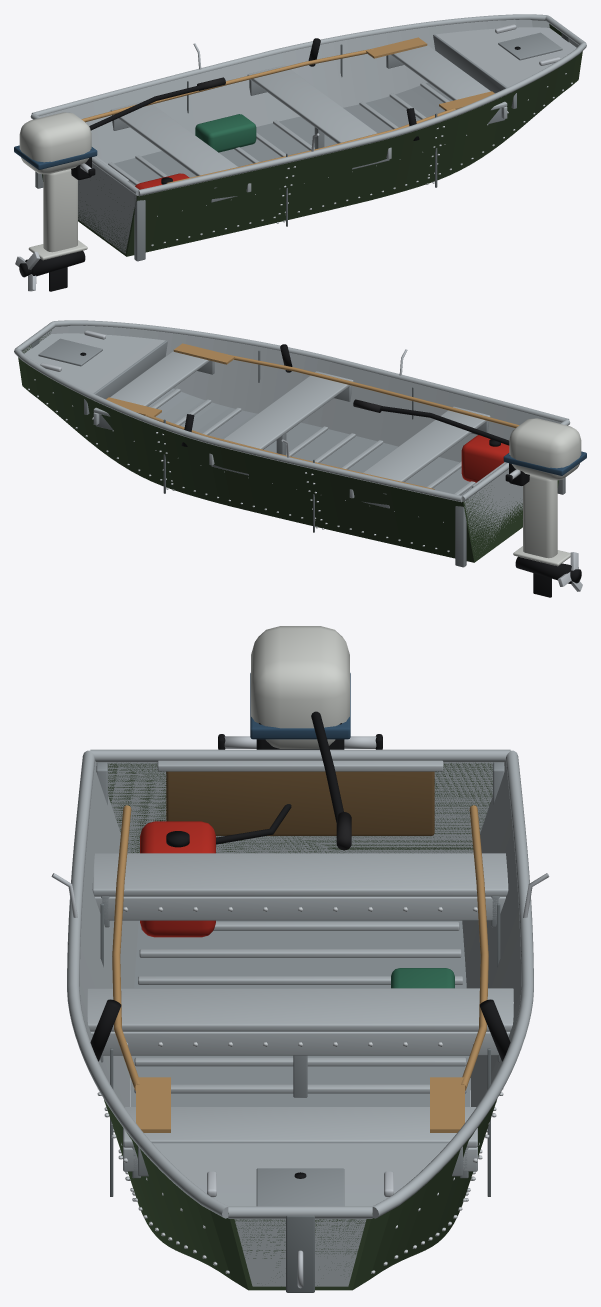
File: jon.glb
The picture shows the model from 3 angles, top to bottom: view 1: azimuth 30°, elevation 25°; view 2: azimuth 150°, elevation 25°; view 3: azimuth 270°, elevation 25°; orthographic projection. The views are drawn at different scales.
Visible parts, largest first — view 1: hull_out, hull_in, floor, bow_deck, bench_top.001, bench_top, ob_cowl, gunwale.001, gunwale, ob_leg, bench_top.002, tackle_box (+13 smaller); view 2: hull_out, hull_in, floor, bow_deck, bench_top.001, bench_top, ob_cowl, gunwale, gunwale.001, ob_leg, bench_top.002, fuel_tank (+13 smaller); view 3: hull_in, floor, hull_out, bench_top, bench_top.001, transom_ply, bow_deck, bench_top.002, ob_cowl, bench_lip, bench_lip.001, gunwale.001 (+22 smaller).
Part boxes in pixels (x1=…): hull_out: x1=42, y1=24, x2=582, y2=256; hull_in: x1=39, y1=19, x2=578, y2=253; floor: x1=114, y1=82, x2=452, y2=185; bow_deck: x1=435, y1=27, x2=576, y2=87; bench_top.001: x1=247, y1=65, x2=377, y2=143; bench_top: x1=110, y1=101, x2=237, y2=188; ob_cowl: x1=19, y1=112, x2=91, y2=174; gunwale.001: x1=138, y1=42, x2=586, y2=196; gunwale: x1=31, y1=14, x2=547, y2=116; ob_leg: x1=43, y1=169, x2=77, y2=252; bench_top.002: x1=390, y1=45, x2=507, y2=110; tackle_box: x1=195, y1=114, x2=256, y2=152; hull_out: x1=18, y1=330, x2=558, y2=562; hull_in: x1=22, y1=325, x2=561, y2=548; floor: x1=148, y1=388, x2=471, y2=495; bow_deck: x1=24, y1=333, x2=165, y2=393; bench_top.001: x1=223, y1=371, x2=353, y2=449; bench_top: x1=363, y1=406, x2=490, y2=494; ob_cowl: x1=509, y1=418, x2=581, y2=480; gunwale: x1=14, y1=348, x2=462, y2=502; gunwale.001: x1=53, y1=320, x2=569, y2=422; ob_leg: x1=523, y1=475, x2=557, y2=558; bench_top.002: x1=93, y1=351, x2=210, y2=416; fuel_tank: x1=461, y1=435, x2=509, y2=482; hull_in: x1=79, y1=761, x2=521, y2=1286; floor: x1=131, y1=920, x2=469, y2=1106; hull_out: x1=104, y1=762, x2=496, y2=1290; bench_top: x1=92, y1=853, x2=508, y2=896; bench_top.001: x1=87, y1=988, x2=513, y2=1031; transom_ply: x1=166, y1=771, x2=434, y2=835; bow_deck: x1=153, y1=1143, x2=447, y2=1206; bench_top.002: x1=123, y1=1107, x2=477, y2=1147; ob_cowl: x1=251, y1=626, x2=349, y2=748; bench_lip: x1=95, y1=896, x2=505, y2=920; bench_lip.001: x1=91, y1=1031, x2=509, y2=1055; gunwale.001: x1=67, y1=750, x2=228, y2=1218.
Size of the model in its own units: 4.39 by 1.28 by 1.71.
